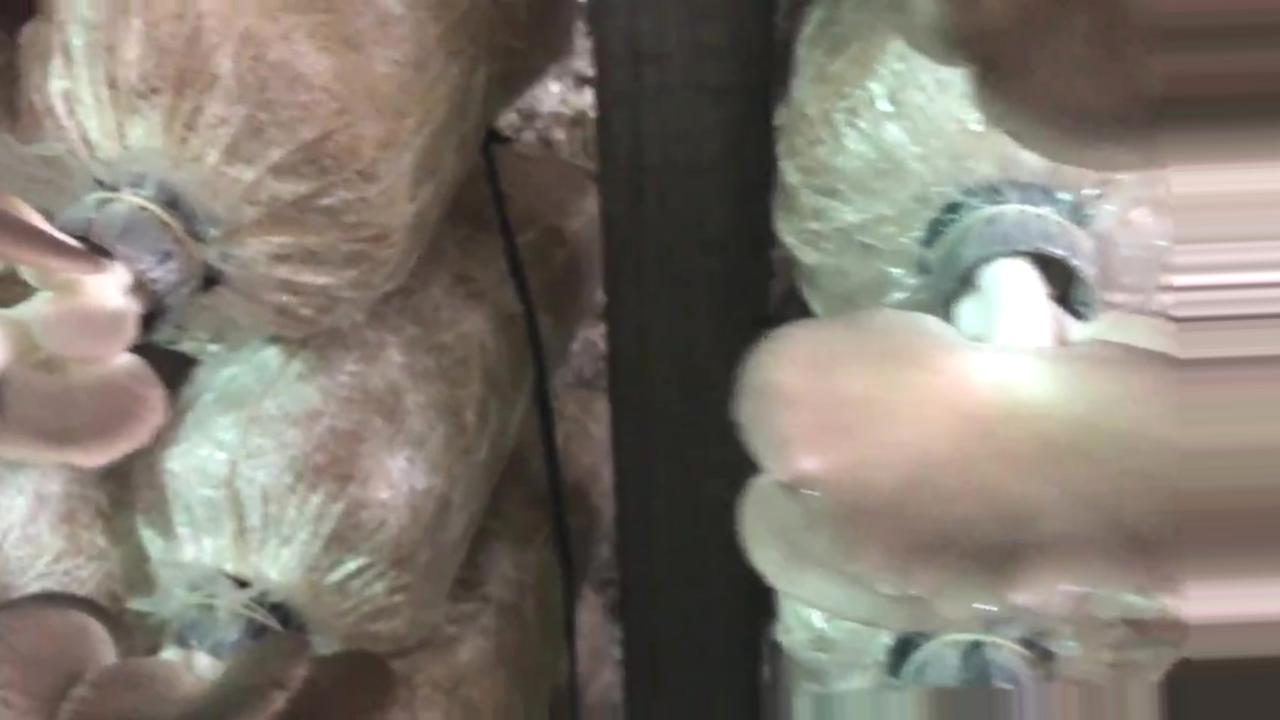nam: (721, 184, 1280, 646), (892, 5, 1280, 170), (1, 180, 211, 468), (9, 589, 411, 720)
